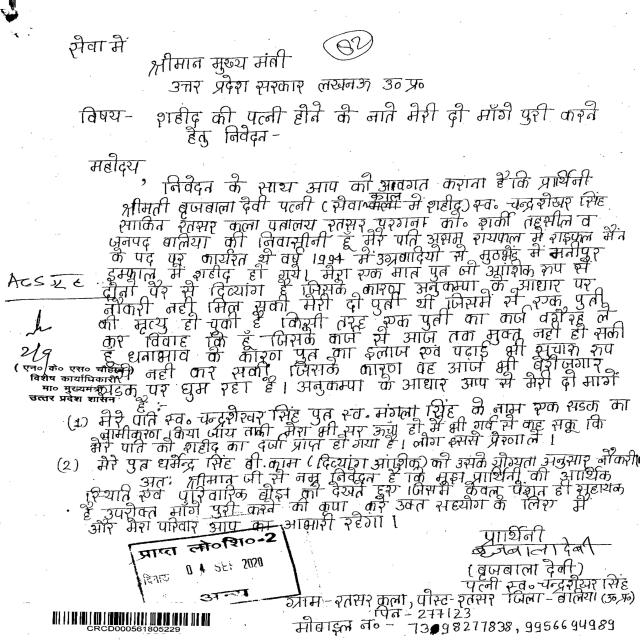antritgovtstamp: (118, 526, 306, 603)
barcode: (47, 606, 217, 636)
signnamestamp: (0, 304, 136, 408)
